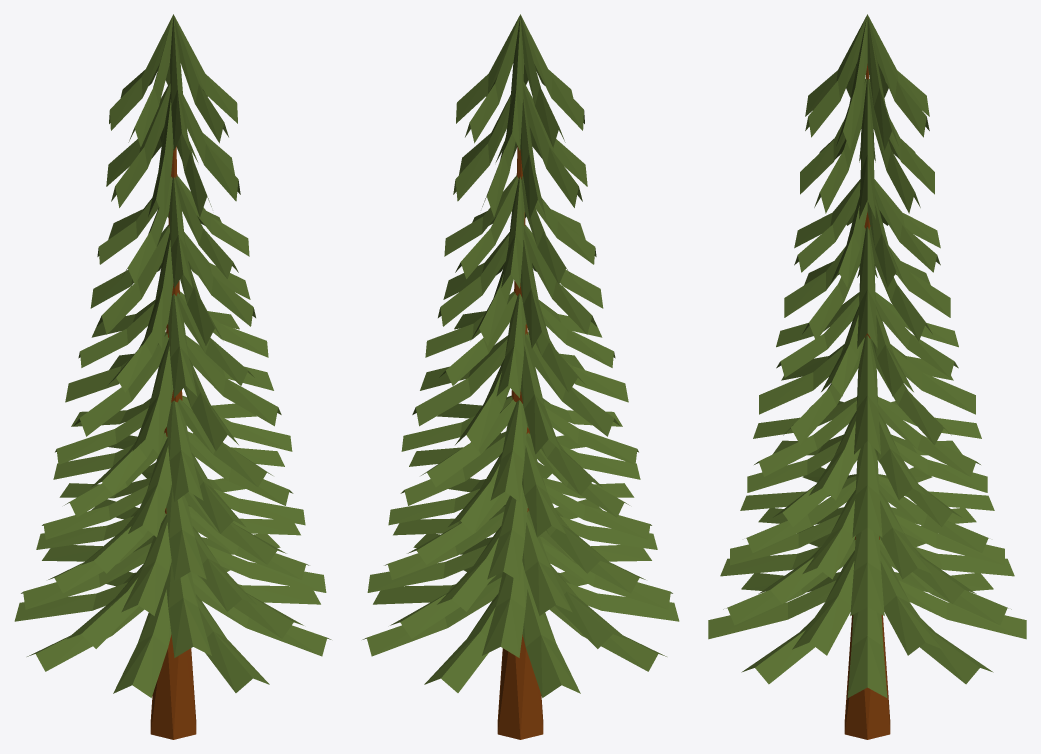
File: needle_pine_medium.fbx
The picture shows the model from 3 angles, left to right: view 1: azimuth 30°, elevation 25°; view 2: azimuth 150°, elevation 25°; view 3: azimuth 270°, elevation 25°; orthographic projection.
Visible parts, largest first — view 1: G-Object.013, G-Object.012, G-Object.005, G-Object.006, G-Object.011, G-Object.001, G-Object.009, G-Object.003, G-Object.002, G-Object.004, G-Object.008, G-Object.007 (+1 smaller); view 2: G-Object.013, G-Object.012, G-Object.005, G-Object.006, G-Object.011, G-Object.001, G-Object.009, G-Object.003, G-Object.002, G-Object.004, G-Object.008, G-Object.007 (+1 smaller); view 3: G-Object.013, G-Object.012, G-Object.006, G-Object.005, G-Object.011, G-Object.001, G-Object.009, G-Object.002, G-Object.004, G-Object.003, G-Object.007, G-Object.008 (+1 smaller).
Boxes of the visible parts, x1=… form: G-Object.013: x1=14, y1=566, x2=331, y2=697; G-Object.012: x1=21, y1=533, x2=326, y2=657; G-Object.005: x1=65, y1=332, x2=281, y2=454; G-Object.006: x1=42, y1=462, x2=305, y2=581; G-Object.011: x1=36, y1=499, x2=309, y2=615; G-Object.001: x1=55, y1=395, x2=292, y2=501; G-Object.009: x1=53, y1=431, x2=293, y2=537; G-Object.003: x1=90, y1=225, x2=255, y2=348; G-Object.002: x1=78, y1=291, x2=268, y2=397; G-Object.004: x1=109, y1=14, x2=237, y2=150; G-Object.008: x1=106, y1=82, x2=240, y2=219; G-Object.007: x1=97, y1=175, x2=249, y2=288; G-Object.013: x1=362, y1=566, x2=679, y2=697; G-Object.012: x1=367, y1=533, x2=672, y2=657; G-Object.005: x1=412, y1=332, x2=628, y2=454; G-Object.006: x1=388, y1=462, x2=651, y2=581; G-Object.011: x1=384, y1=499, x2=657, y2=615; G-Object.001: x1=401, y1=395, x2=638, y2=501; G-Object.009: x1=400, y1=431, x2=640, y2=537; G-Object.003: x1=438, y1=225, x2=603, y2=348; G-Object.002: x1=425, y1=291, x2=615, y2=397; G-Object.004: x1=456, y1=14, x2=584, y2=150; G-Object.008: x1=453, y1=82, x2=587, y2=219; G-Object.007: x1=444, y1=175, x2=596, y2=288; G-Object.013: x1=708, y1=572, x2=1026, y2=697; G-Object.012: x1=720, y1=525, x2=1014, y2=655; G-Object.006: x1=740, y1=467, x2=994, y2=579; G-Object.005: x1=759, y1=335, x2=975, y2=454; G-Object.011: x1=730, y1=507, x2=1004, y2=615; G-Object.001: x1=753, y1=397, x2=981, y2=500; G-Object.009: x1=747, y1=434, x2=987, y2=537; G-Object.002: x1=776, y1=292, x2=958, y2=396; G-Object.004: x1=805, y1=14, x2=929, y2=150; G-Object.003: x1=784, y1=226, x2=950, y2=348; G-Object.007: x1=794, y1=179, x2=940, y2=287; G-Object.008: x1=800, y1=78, x2=934, y2=219.
Size of the model in its own units: 486 by 1204 by 486.
